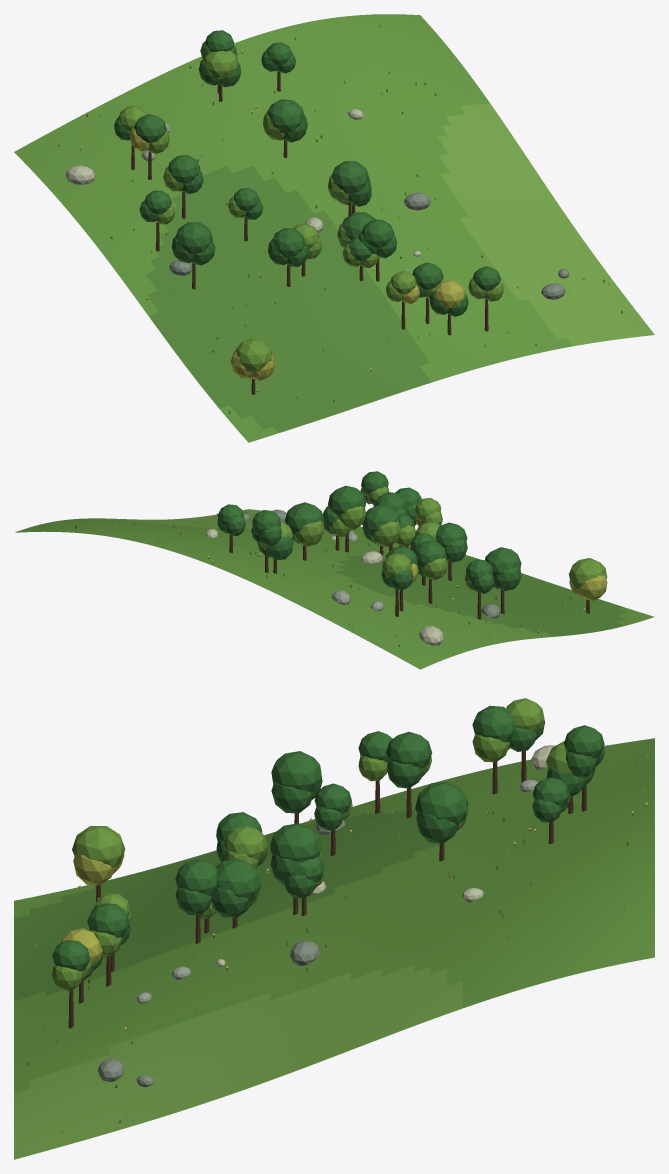
Rendered from Chunk_X2_Y0_Z1.fbx.
3 views of the same model, one above another, from view 1: azimuth 30°, elevation 25°; view 2: azimuth 150°, elevation 25°; view 3: azimuth 270°, elevation 25° (orthographic). The views are drawn at different scales.
Parts seen in each view (by area): view 1: Terrain.039, Canopies.038, Rocks.039, Trunks.038; view 2: Terrain.039, Canopies.038, Rocks.039, Trunks.038, GroundCover.039; view 3: Terrain.039, Canopies.038, Rocks.039, Trunks.038, GroundCover.039.
Part boxes in pixels (x1,y1,x2,y2): Terrain.039: (14, 14, 654, 442); Canopies.038: (114, 30, 503, 380); Rocks.039: (65, 108, 569, 299); Trunks.038: (131, 70, 488, 394); Terrain.039: (15, 509, 654, 669); Canopies.038: (217, 471, 607, 600); Rocks.039: (205, 509, 500, 645); Trunks.038: (229, 506, 589, 619); GroundCover.039: (75, 510, 626, 646); Terrain.039: (14, 738, 654, 1159); Canopies.038: (52, 698, 604, 991); Rocks.039: (98, 745, 555, 1087); Trunks.038: (68, 750, 586, 1028); GroundCover.039: (25, 748, 649, 1132).
Bounding box in the file's own units: 100 × 50.49 × 100.
